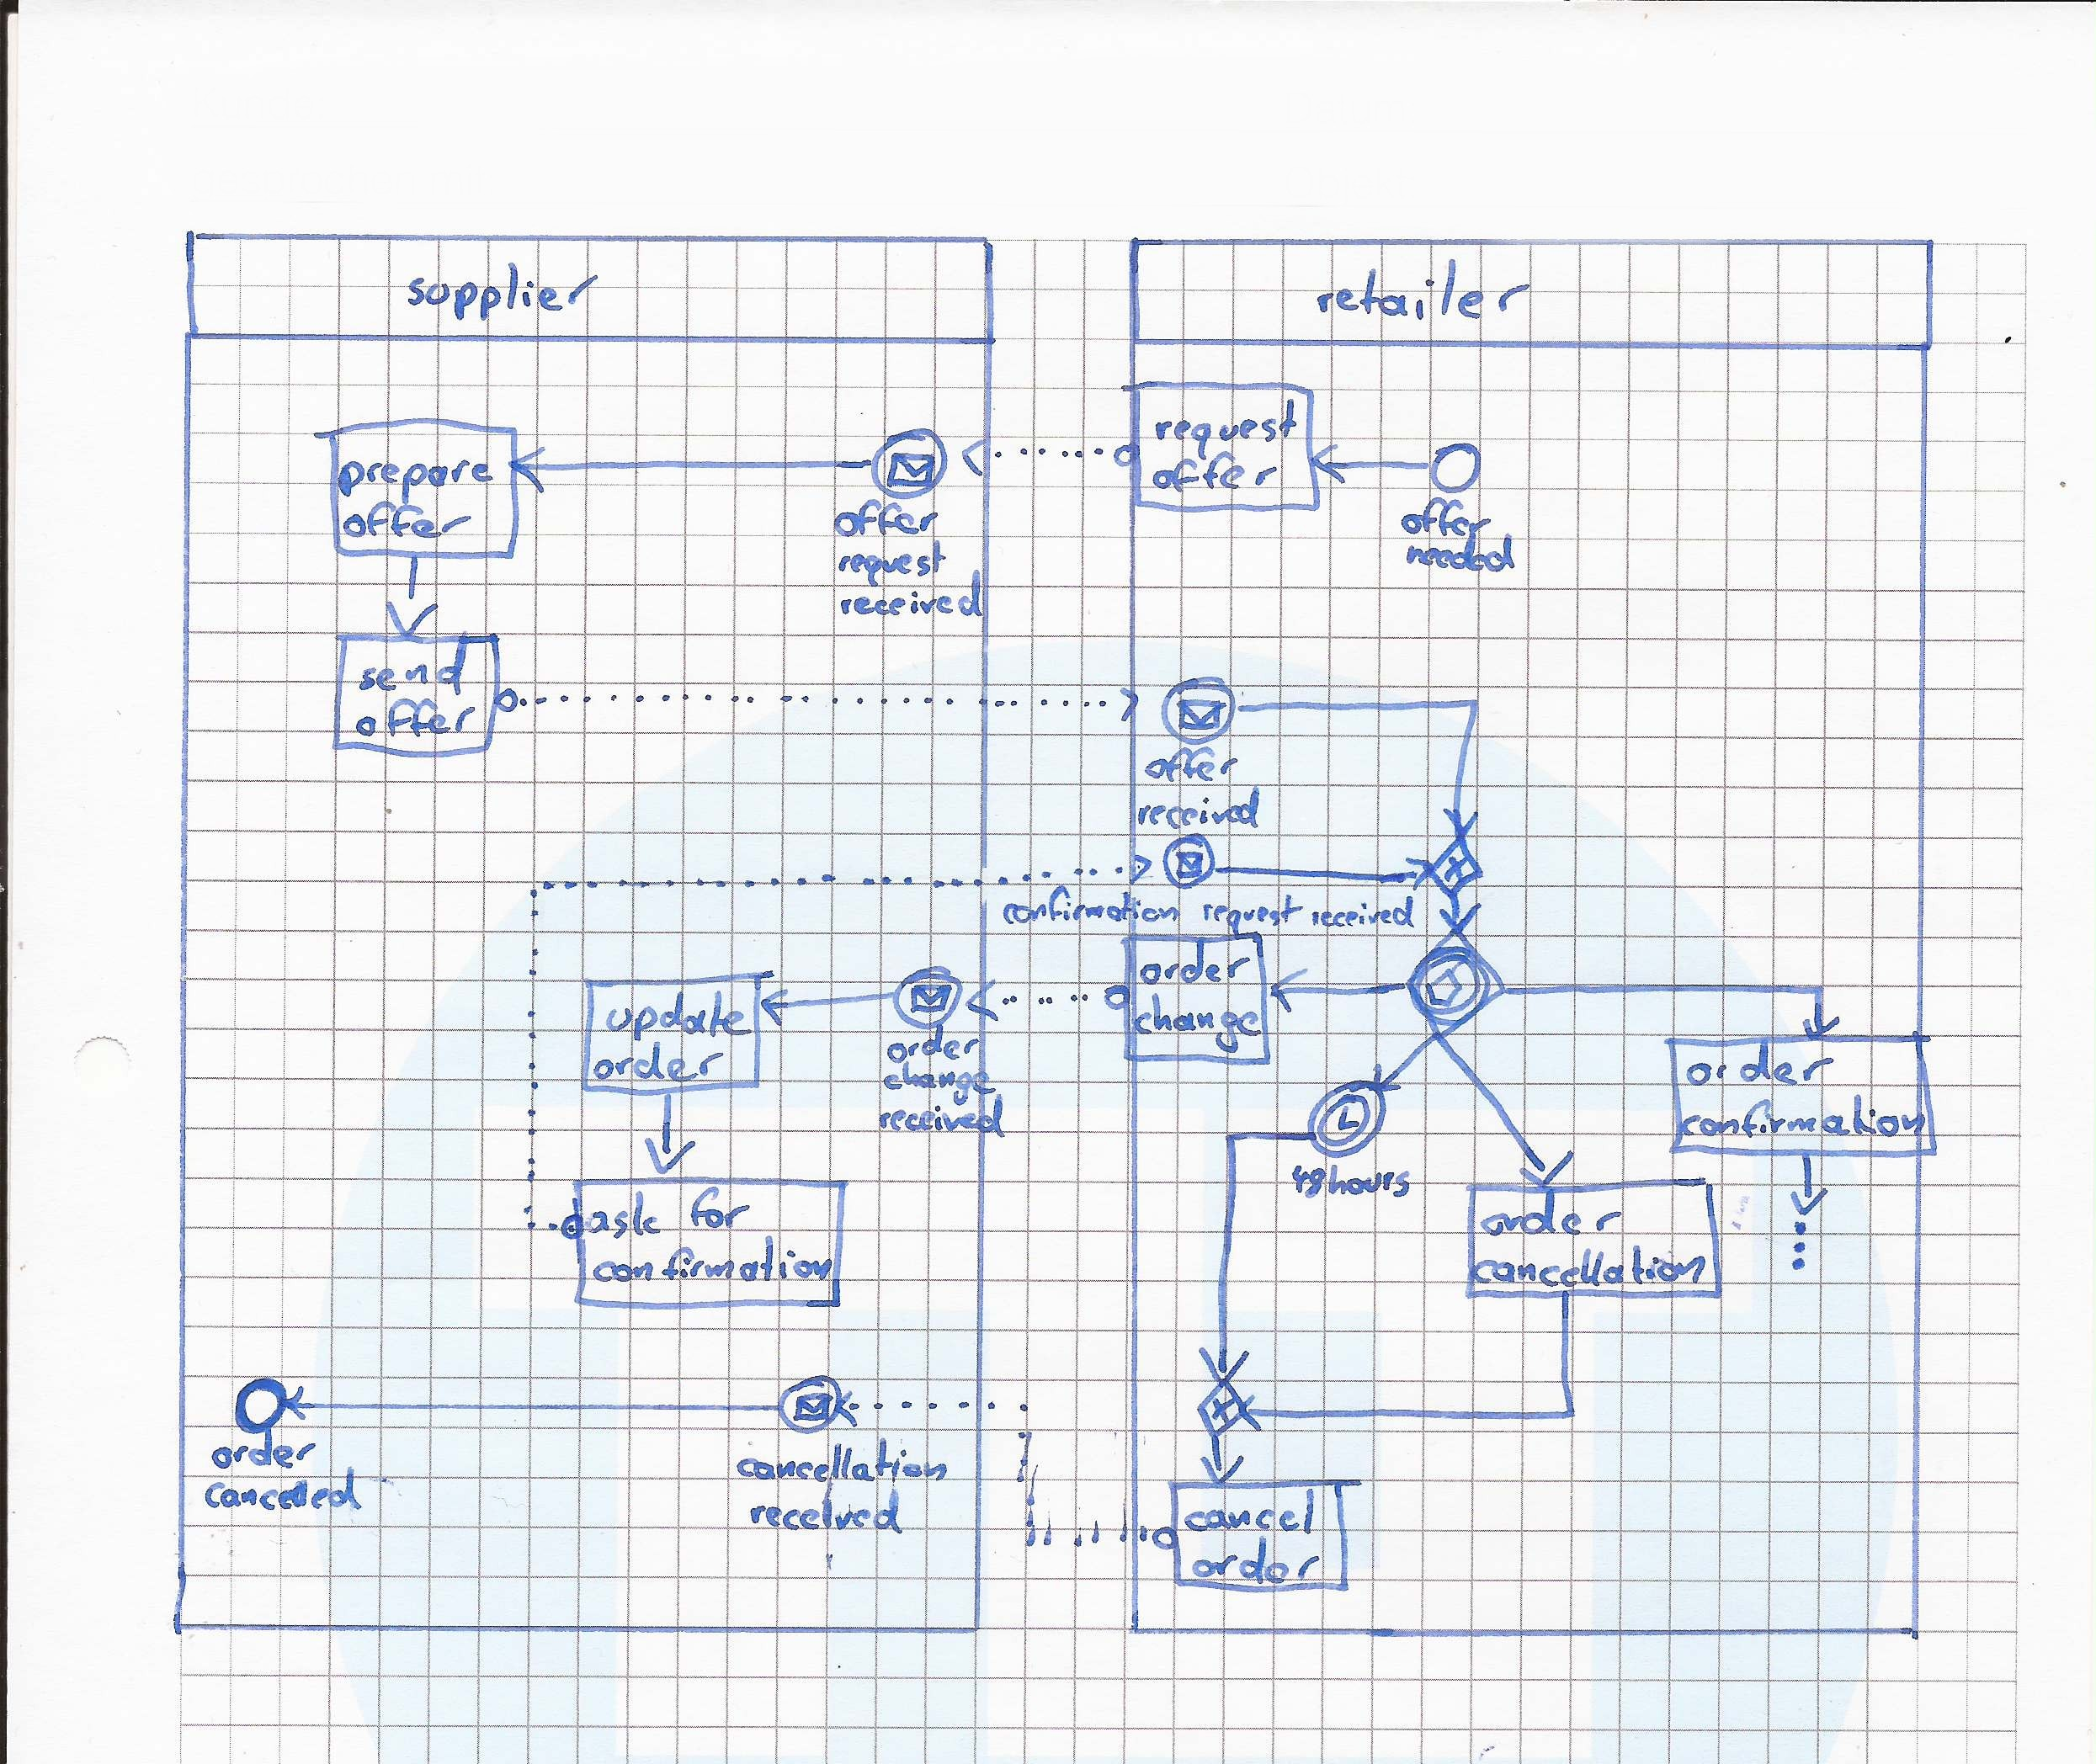48: (1284, 1157, 1328, 1206)
ask: (586, 1190, 658, 1237)
cancel: (1179, 1486, 1323, 1540)
cancellation: (728, 1439, 947, 1495), (1482, 1248, 1709, 1295)
cancelled: (206, 1465, 364, 1517)
change: (1132, 1001, 1260, 1043), (884, 1061, 992, 1097)
confirmation: (1680, 1094, 1923, 1144), (590, 1244, 829, 1292), (1001, 891, 1179, 935)
for: (695, 1188, 744, 1227)
hours: (1321, 1165, 1417, 1202)
needed: (1403, 520, 1520, 574)
offer: (826, 488, 941, 551), (336, 506, 469, 548), (353, 703, 472, 744), (1151, 457, 1272, 495), (1396, 494, 1494, 539), (1142, 747, 1242, 786)
order: (1680, 1050, 1837, 1089), (205, 1430, 332, 1477), (1482, 1197, 1618, 1236), (1184, 1552, 1323, 1587), (1135, 948, 1244, 991), (884, 1019, 978, 1061), (593, 1053, 721, 1080)
prepare: (341, 446, 506, 499)
received: (751, 1493, 901, 1542), (847, 583, 976, 625), (1134, 796, 1254, 837), (1307, 891, 1412, 935), (875, 1099, 1004, 1134)
request: (1149, 408, 1300, 450), (836, 537, 950, 579), (1198, 893, 1300, 938)
retailer: (1310, 263, 1533, 326)
send: (355, 639, 474, 700)
supplier: (401, 266, 597, 318)
update: (609, 987, 747, 1043)
